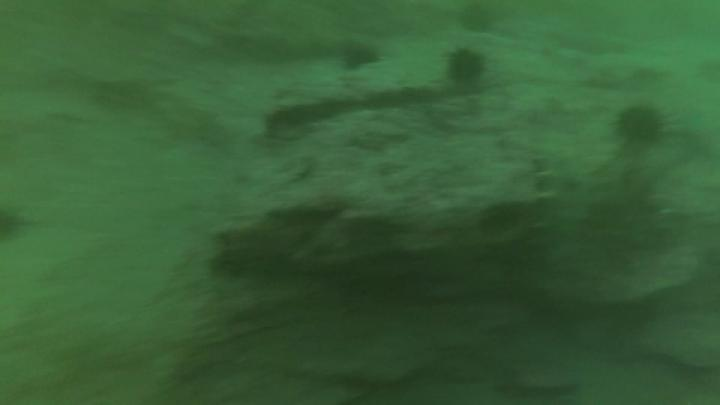echinus: (620, 106, 659, 144), (448, 52, 487, 81)
holothurian: (530, 153, 568, 261)
